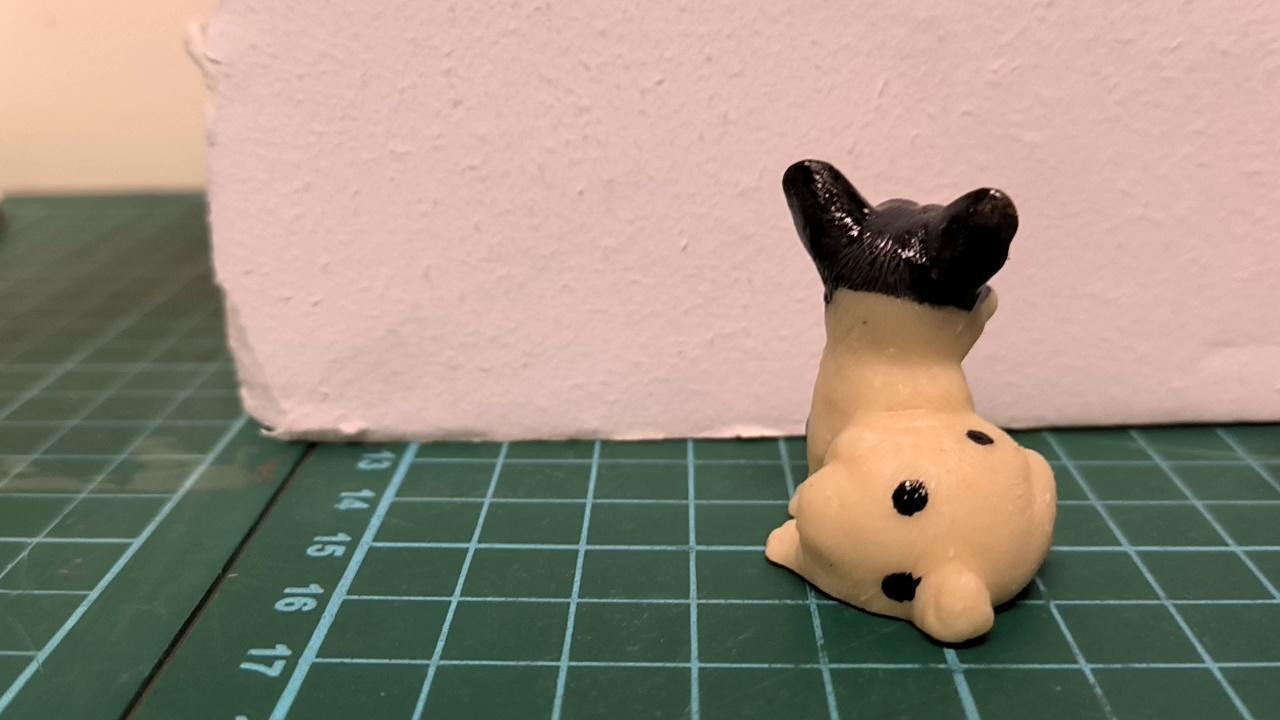pet: (764, 157, 1063, 647)
